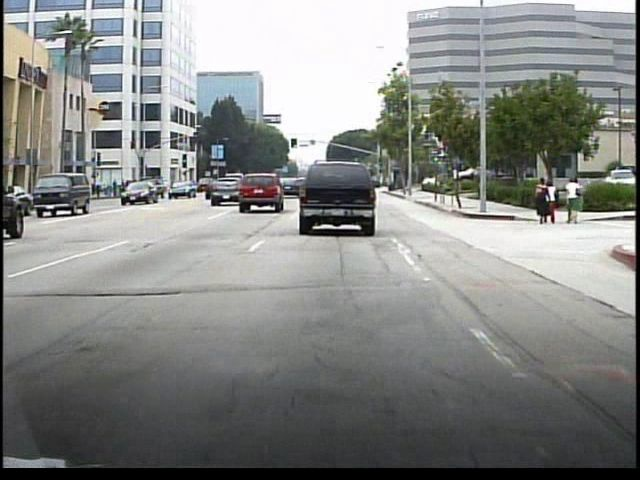person: (563, 175, 582, 226), (533, 175, 549, 227), (544, 180, 558, 226)
